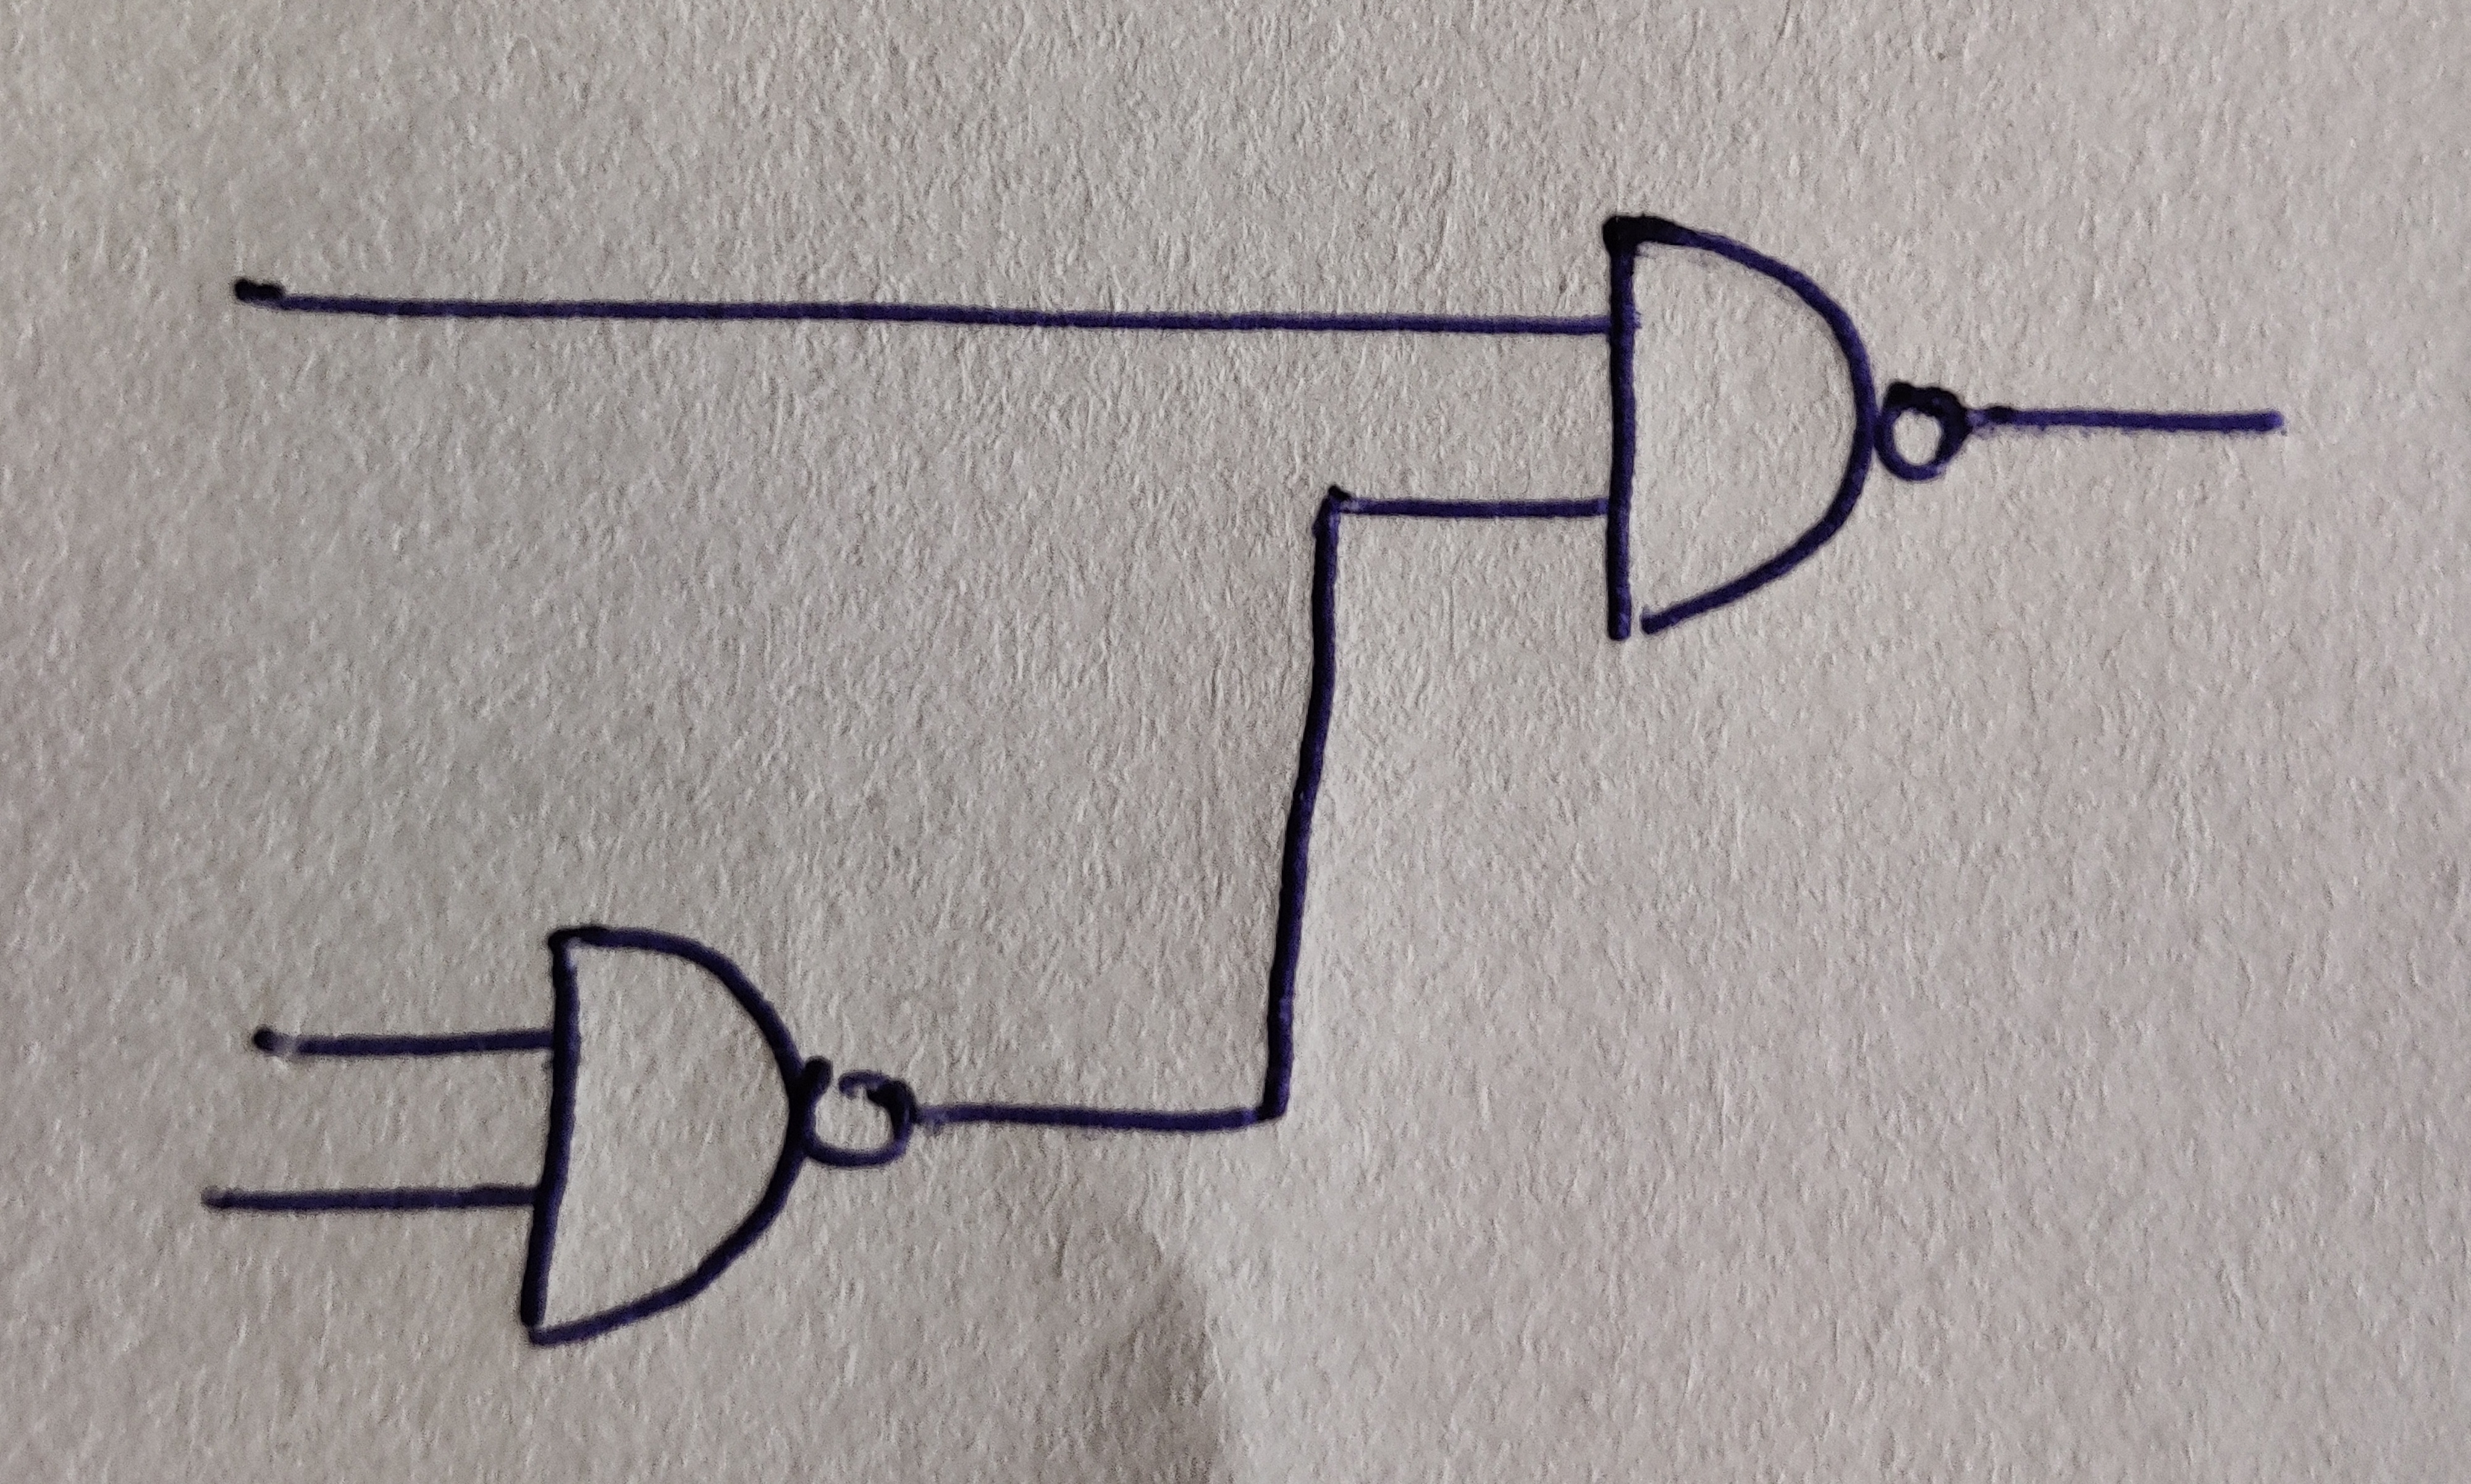and: (519, 926, 803, 1352), (1601, 214, 1876, 641)
not: (803, 1052, 914, 1172), (1874, 378, 1972, 482)
